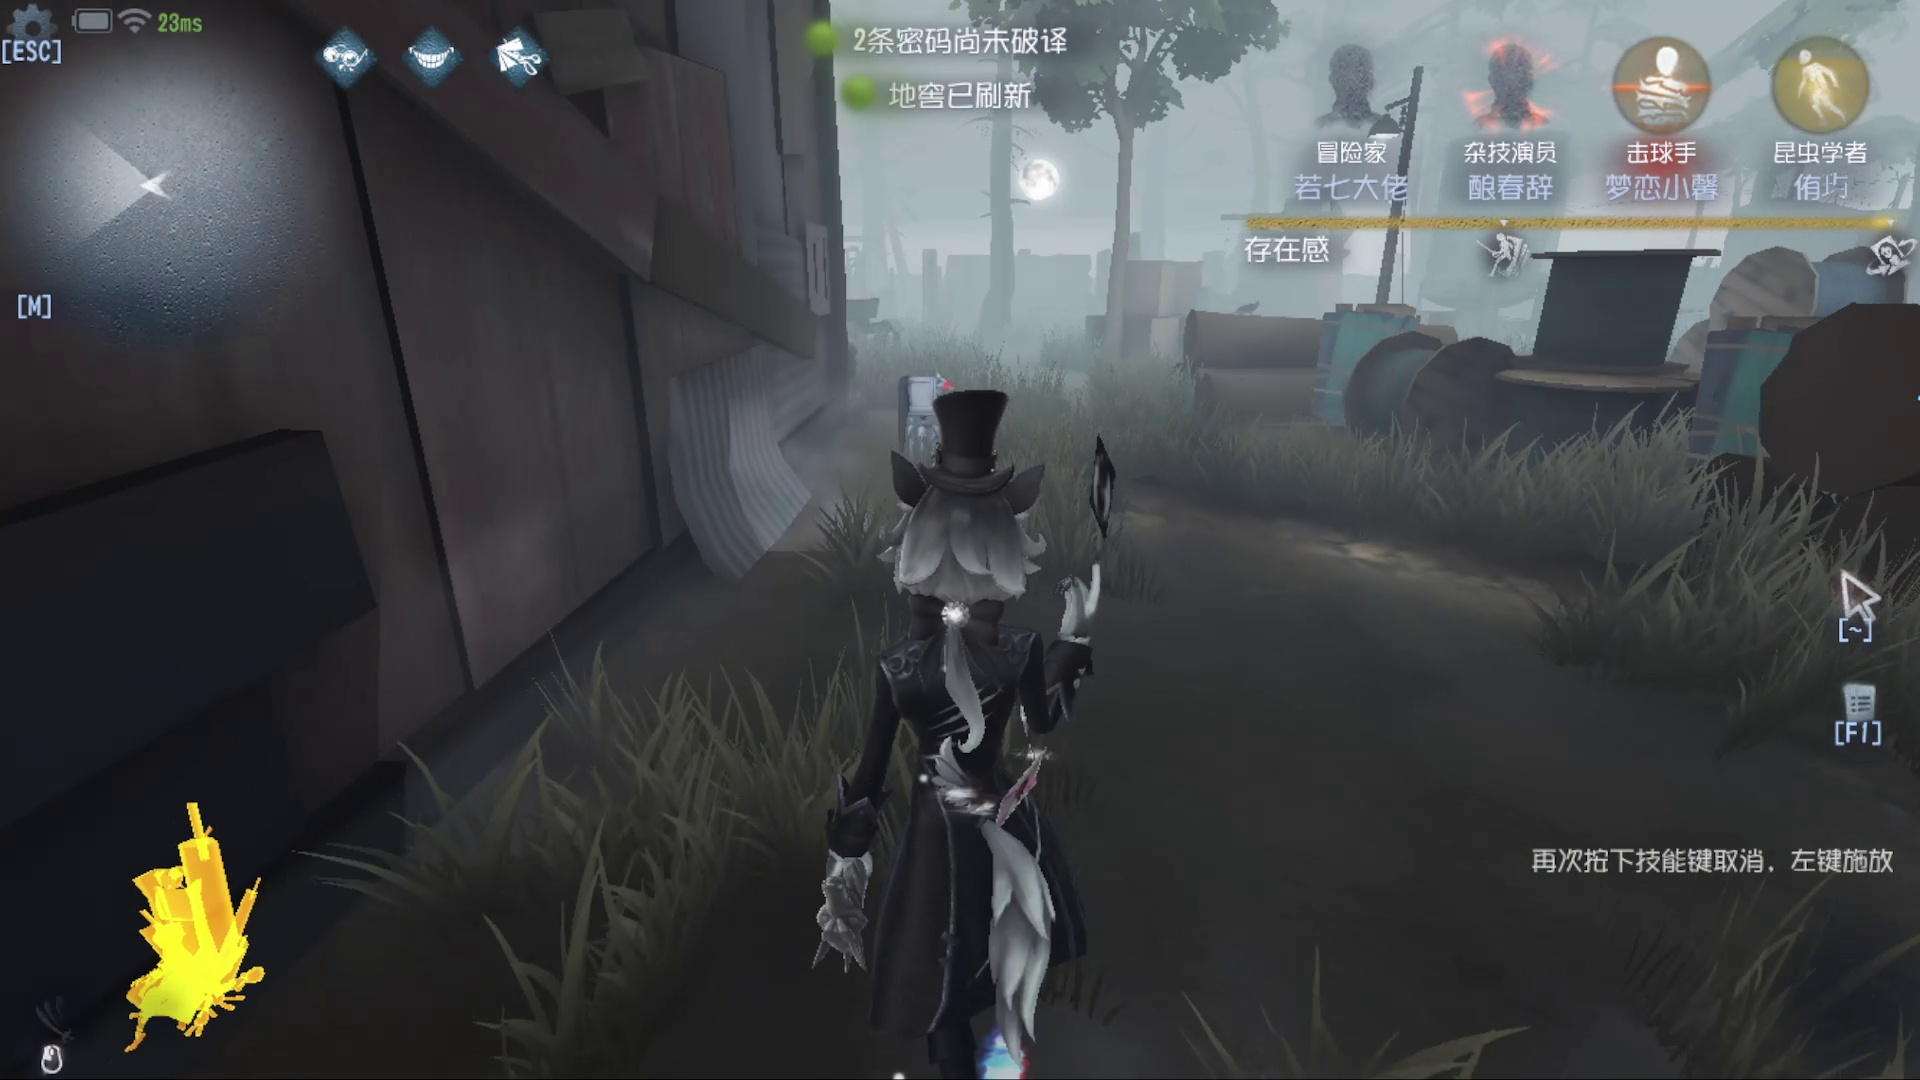狂欢之椅: (102, 799, 278, 1025)
